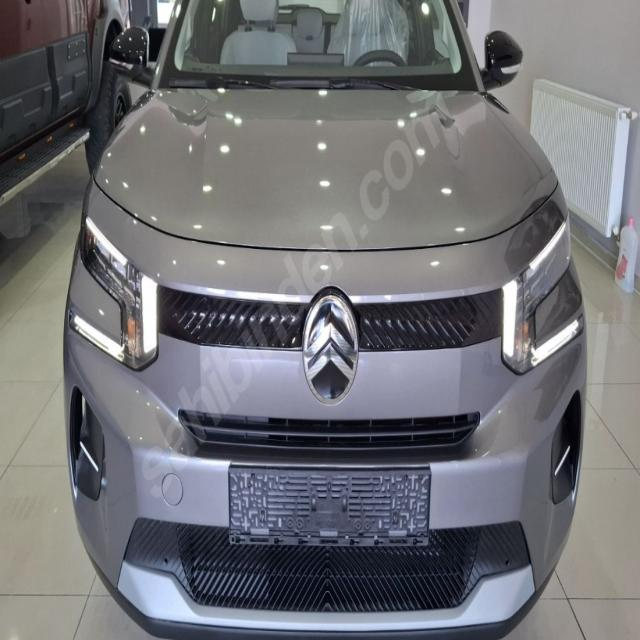citroen: (298, 286, 365, 408)
